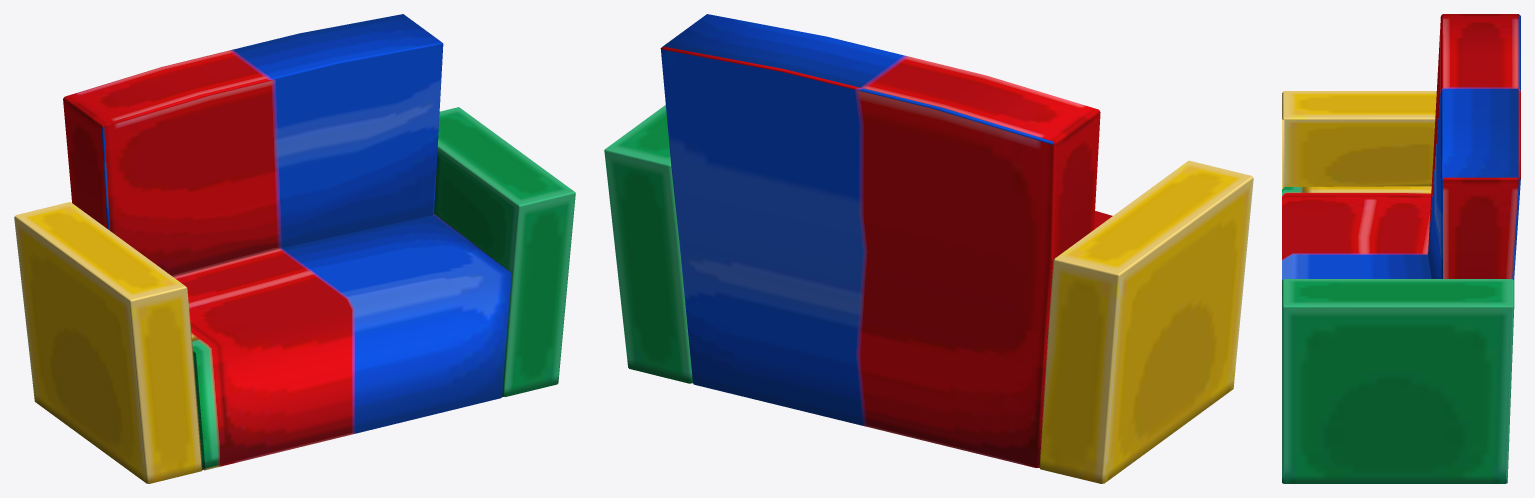
The model's file is rmk_col_chairL.dae.
3 renders of one model, left to right at view 1: azimuth 30°, elevation 25°; view 2: azimuth 150°, elevation 25°; view 3: azimuth 270°, elevation 25°, orthographic. The views are drawn at different scales.
Visible parts, largest first — view 1: rmk_col_chairL; view 2: rmk_col_chairL; view 3: rmk_col_chairL.
Part boxes in pixels (x1,y1,x2,y2): rmk_col_chairL: (14, 14, 575, 483); rmk_col_chairL: (604, 14, 1253, 483); rmk_col_chairL: (1282, 14, 1520, 483).
Size of the model in its own units: 61.6 by 39.2 by 28.8.
1 material, 1 textured.
